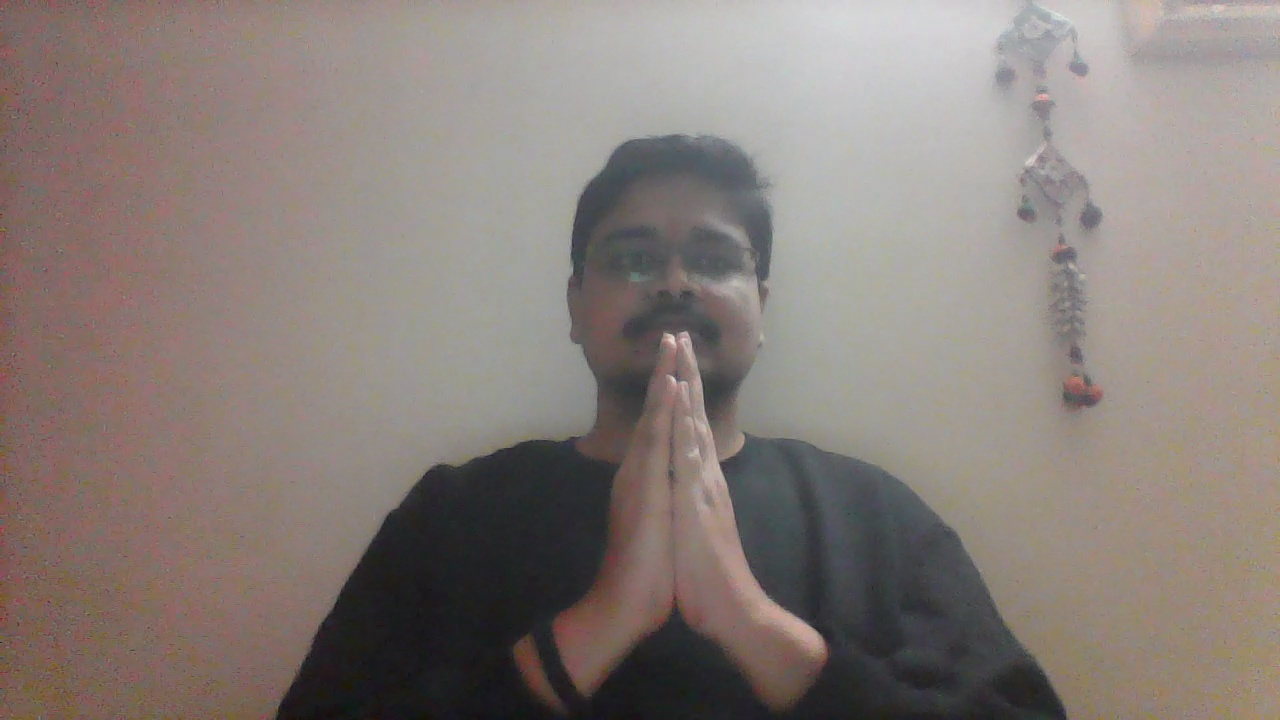Namaste: (597, 329, 776, 654)
